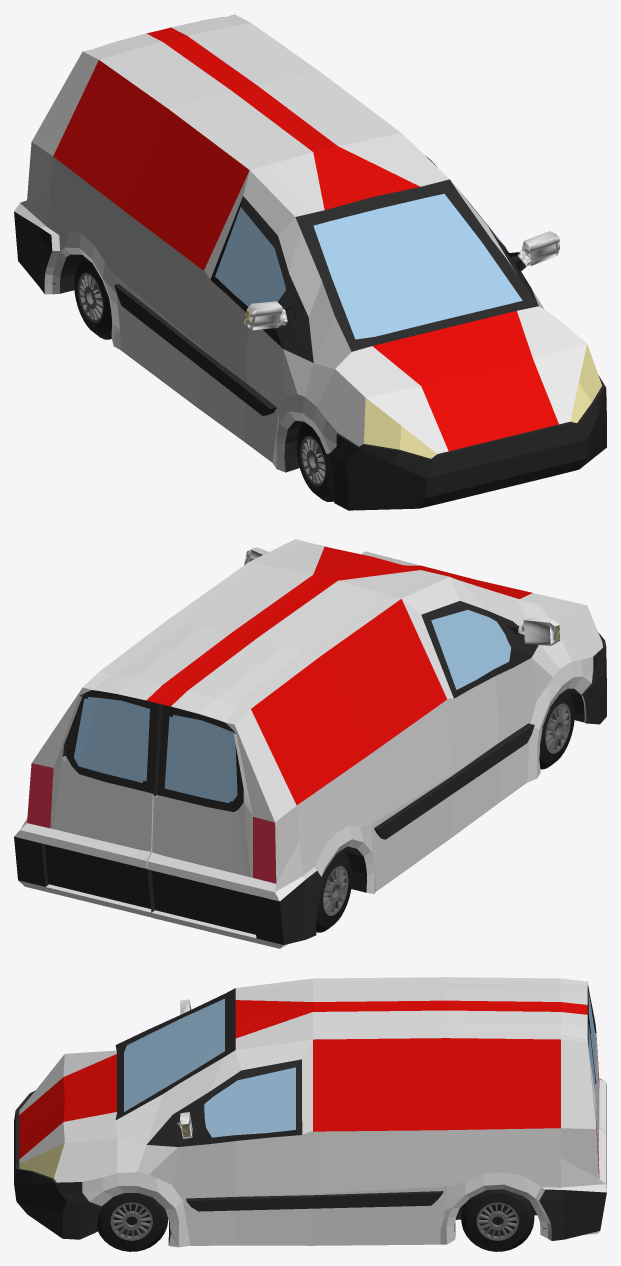
File: BusExport.fbx
3 renders of one model, top to bottom at view 1: azimuth 30°, elevation 25°; view 2: azimuth 150°, elevation 25°; view 3: azimuth 270°, elevation 25°, orthographic. The views are drawn at different scales.
Visible parts, largest first — view 1: Bus, Tires.003, Tires.002; view 2: Bus, BackDoorR, BackDoorL, Tires.003, Tires.002; view 3: Bus, Tires.006, Tires, BackDoorR, BackDoorL.
Boxes of the visible parts, box(x1,y1,x2,y2) form: Bus: box(14, 14, 606, 510); Tires.003: box(74, 256, 111, 339); Tires.002: box(296, 421, 333, 501); Bus: box(14, 539, 606, 948); BackDoorR: box(147, 704, 256, 942); BackDoorL: box(41, 690, 158, 908); Tires.003: box(316, 849, 352, 932); Tires.002: box(539, 689, 574, 769); Bus: box(14, 977, 606, 1247); Tires.006: box(461, 1189, 534, 1251); Tires: box(97, 1193, 168, 1251); BackDoorR: box(587, 986, 606, 1138); BackDoorL: box(587, 1011, 606, 1179).
Bounding box in the file's own units: 162 × 121 × 324.
